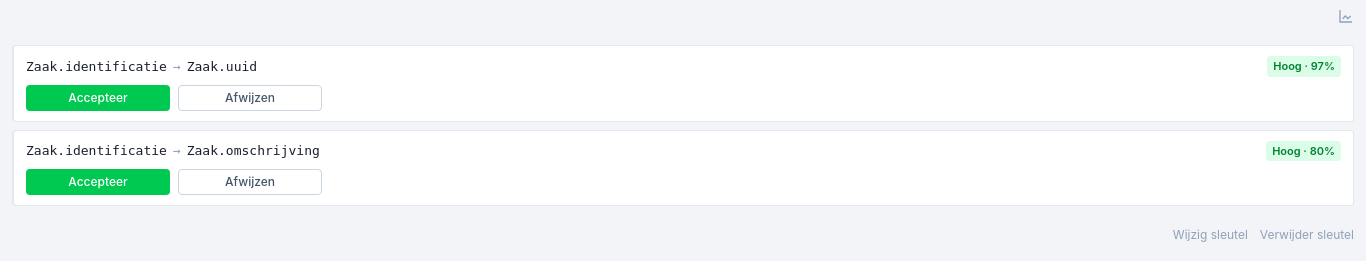
it: AISuggestionPanel › acceptance rate dialog › updates rate in dialog after rejecting a suggestion
The width and height of the screenshot is (1366, 261).
Step 1. Click the button with test id "stats-button" → [1346, 16], box top-left (1334, 4), bottom-right (1358, 28)
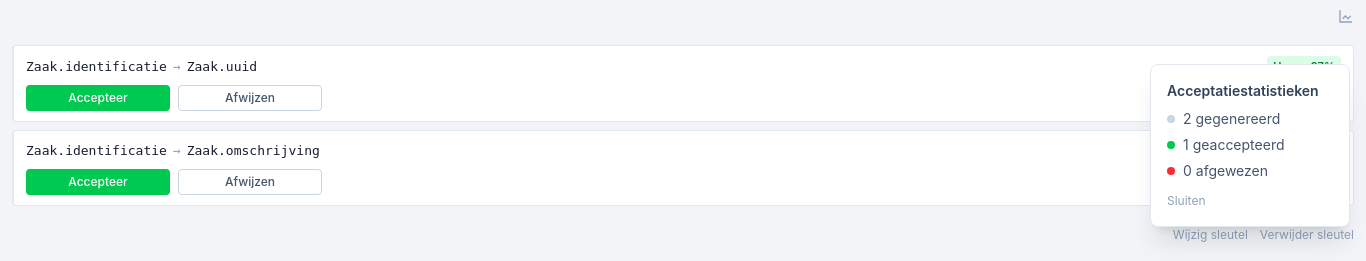
Step 2. Click the button with test id "reject-button" → [250, 98], box top-left (178, 84), bottom-right (322, 110)
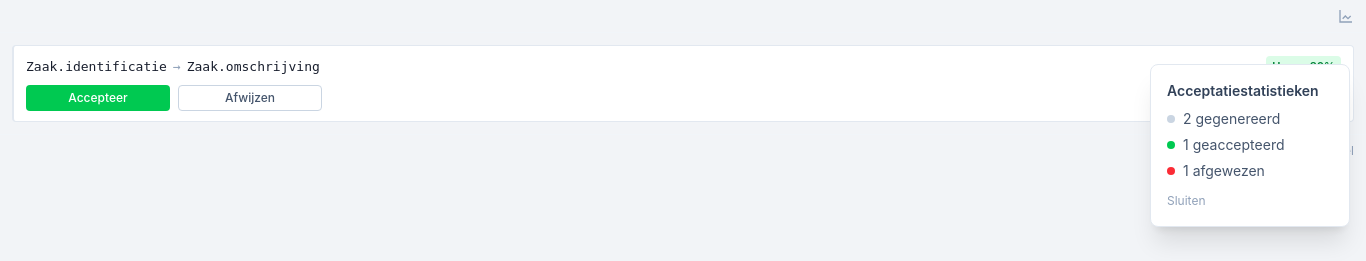
Check: the element with test id "stats-dialog" shows "1 geaccepteerd", box top-left (1183, 136), bottom-right (1284, 153)
Check: the element with test id "stats-dialog" shows "1 afgewezen", box top-left (1183, 162), bottom-right (1265, 179)
